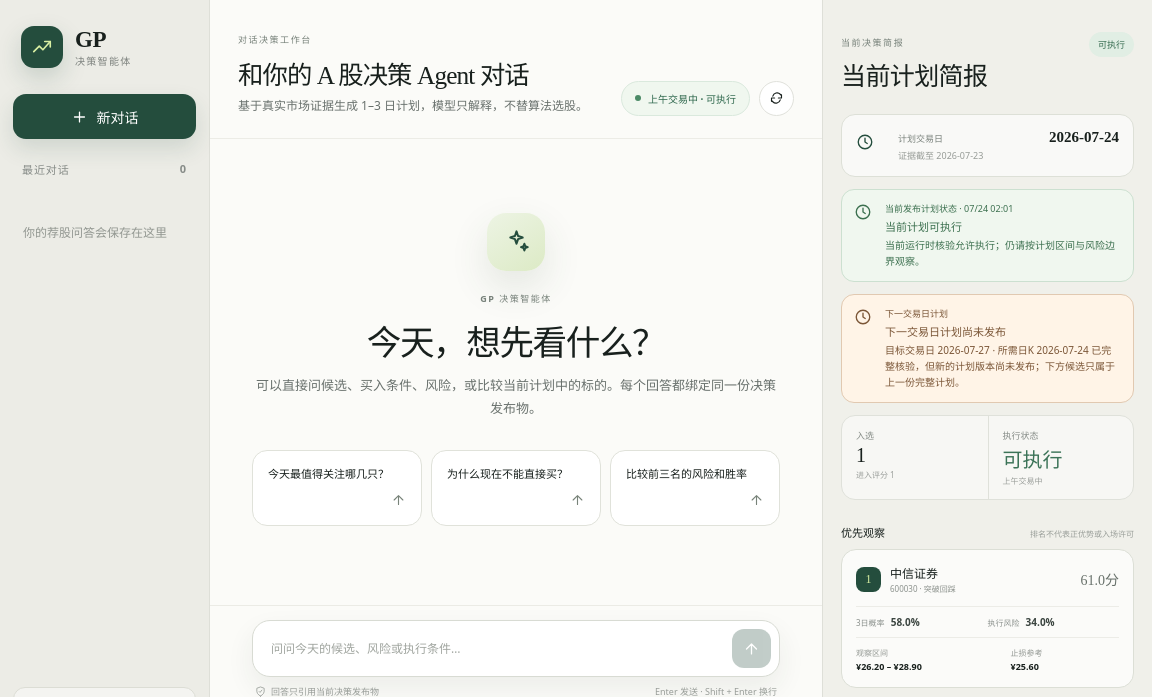
Test: GP chat workspace › fails closed when a later state synchronization loses the API
expect the text "上午交易中 · 可执行" is shown: met, box [621, 81, 750, 116]
Click the button named "同步最新状态". click: (776, 98)
box: [759, 81, 794, 116]
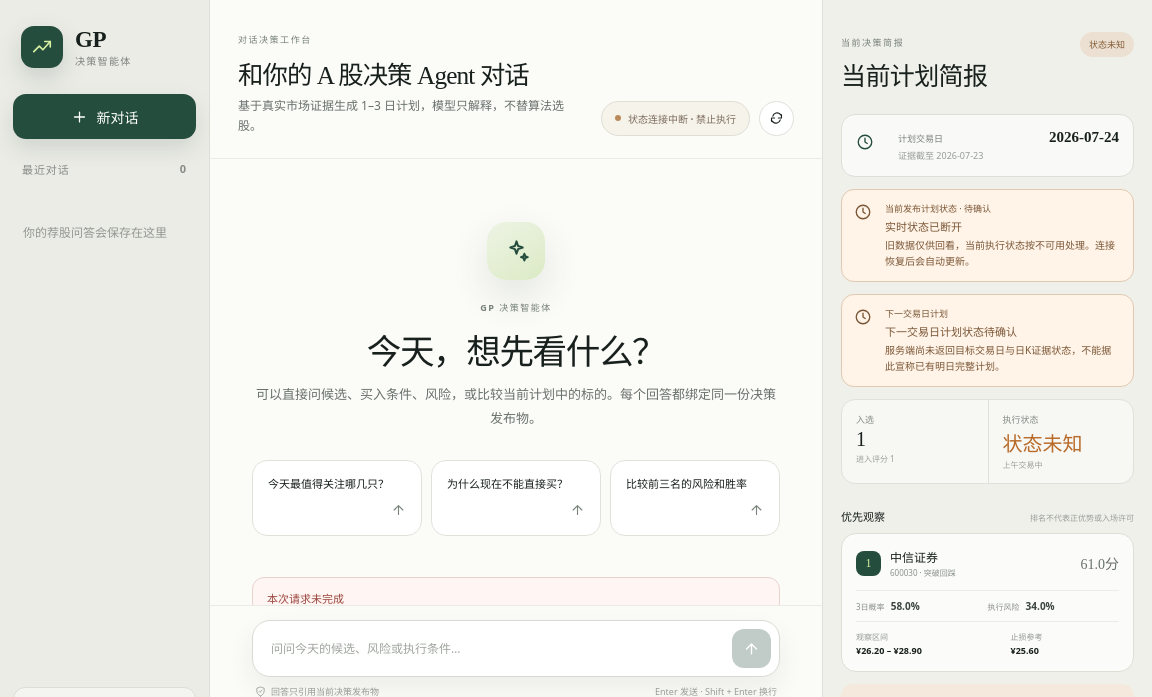
expect the text "实时状态已断开" is shown: met, box [885, 219, 962, 234]
expect the text "状态连接中断 · 禁止执行" is shown: met, box [601, 101, 750, 136]
